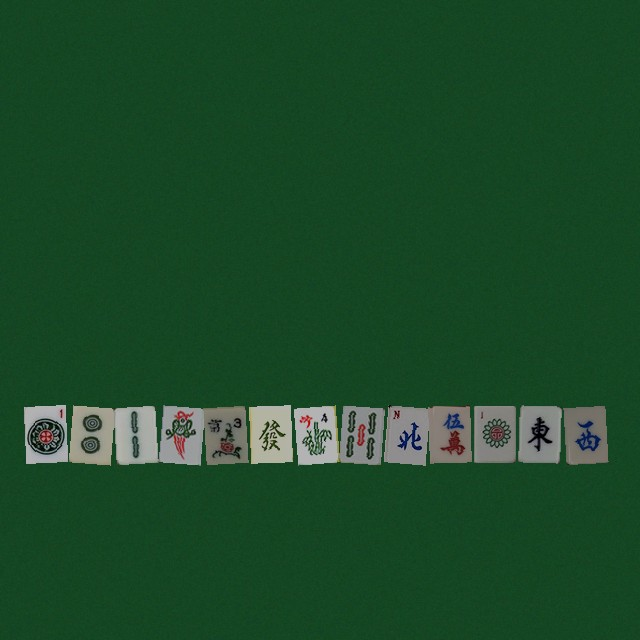tile: (23, 405, 65, 462), (68, 405, 110, 462), (113, 405, 155, 462), (158, 405, 200, 462), (203, 405, 245, 462), (248, 405, 290, 462), (293, 405, 335, 462), (338, 405, 380, 462), (383, 405, 425, 462), (428, 405, 470, 462), (473, 405, 515, 462), (518, 405, 560, 462), (563, 405, 605, 462)
